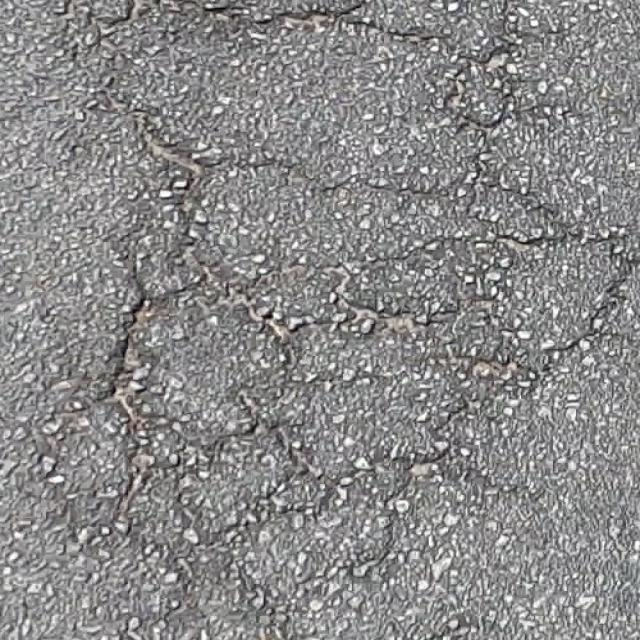PIEL DE COCODRILO: (36, 0, 639, 639)
